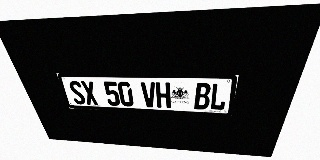0: (117, 81, 134, 107)
5: (103, 81, 121, 106)
B: (194, 83, 211, 110)
H: (155, 82, 171, 108)
L: (209, 83, 228, 110)
S: (67, 81, 87, 105)
V: (140, 82, 157, 107)
X: (80, 81, 99, 105)
